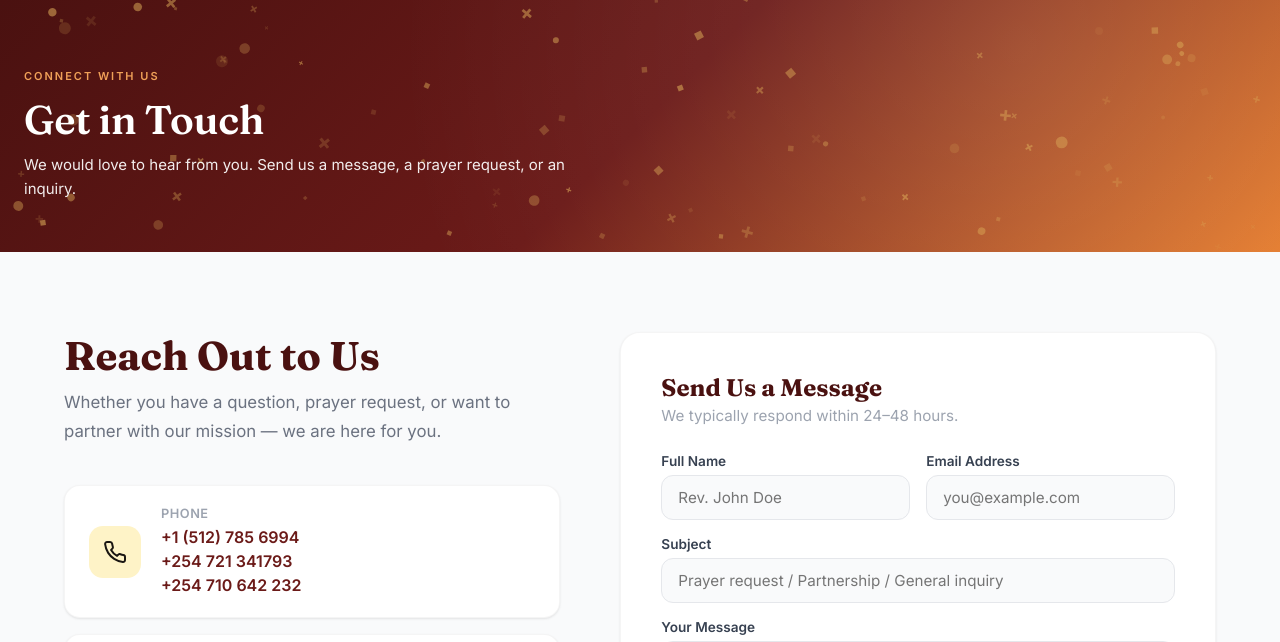
Test: ContactPage › shows error message when submission fails
Type "John Doe" into the field labelled "Full Name" at point(786, 498), box [661,475,910,520]
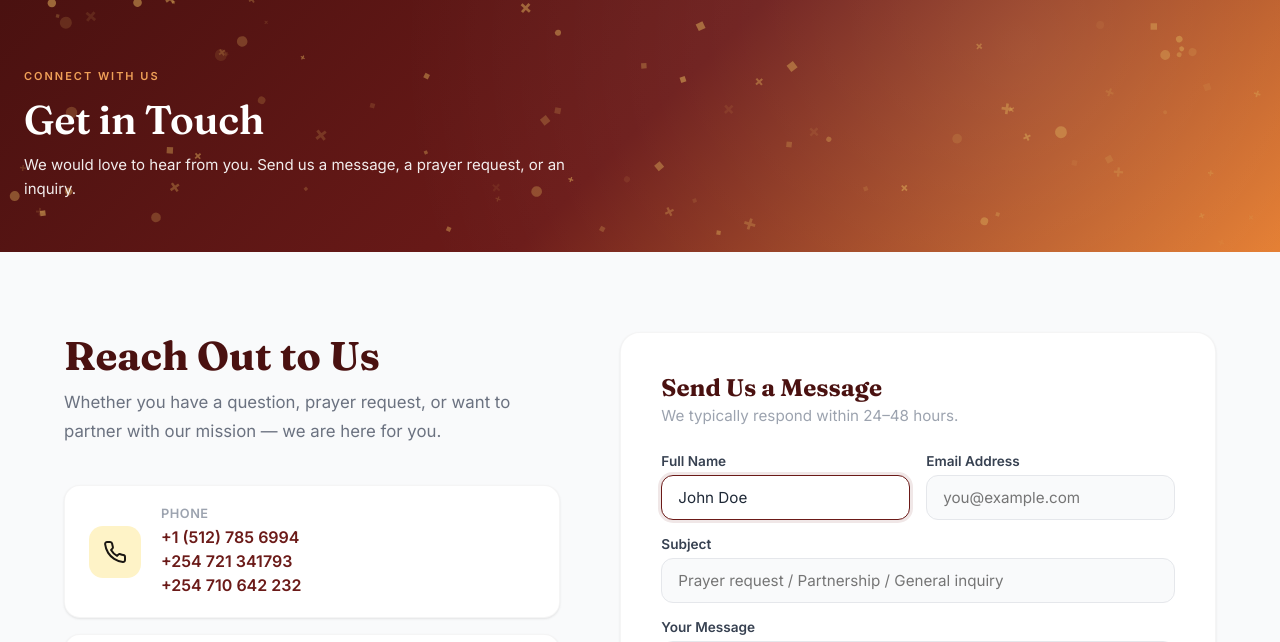
Type "john@example.com" into the field labelled "Email Address" at point(1051, 498), box [926,475,1175,520]
(page scrolled)
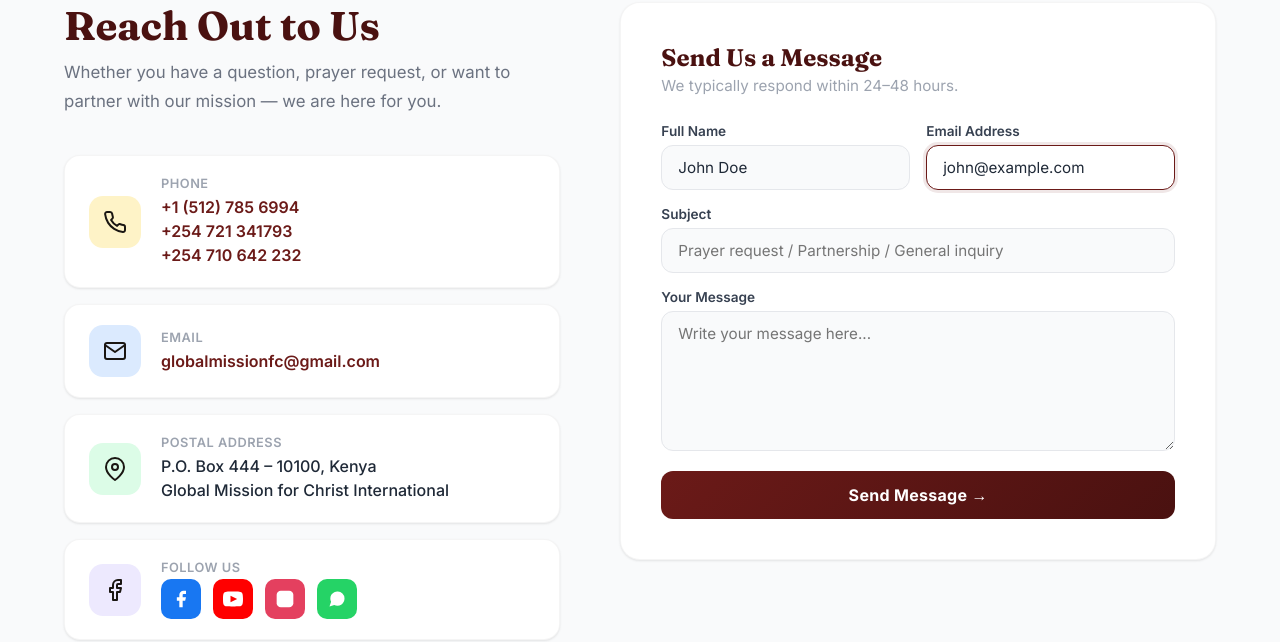
Type "Hello world" into the text box labelled "Your Message" at point(918, 381), box [661,311,1175,451]
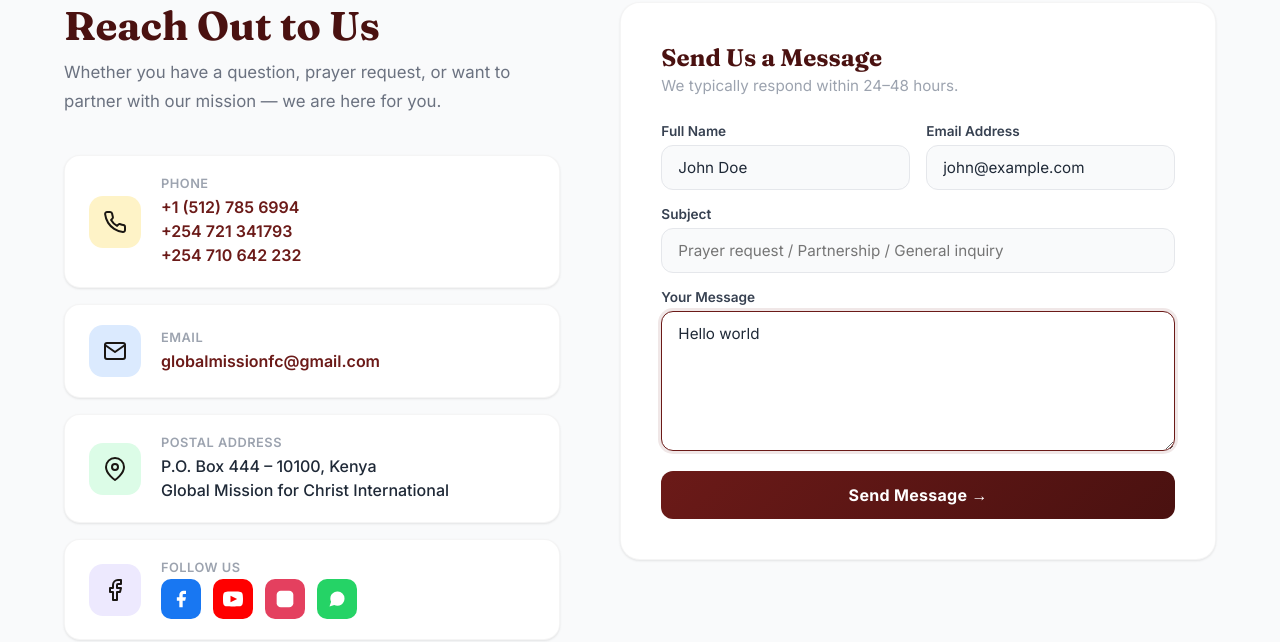
Click the button "Send Message →" at point(918, 495), box [661,471,1175,519]
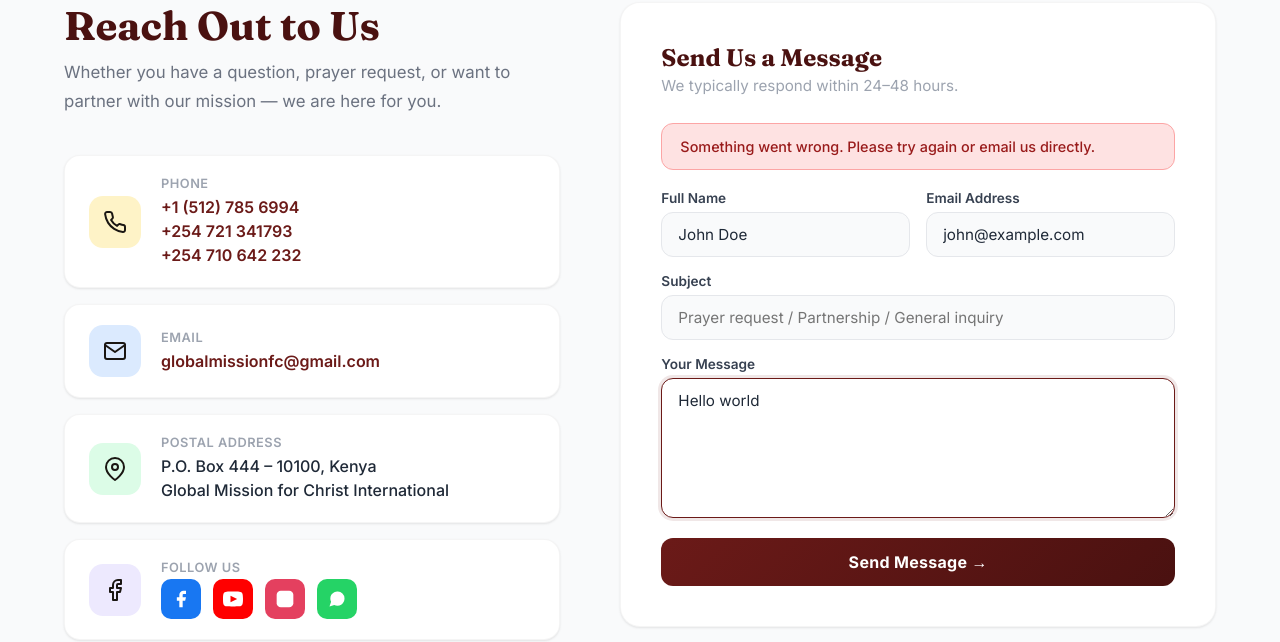
Now the text "Something went wrong. Please try again or email us directly." is shown, box [661,123,1175,170]
